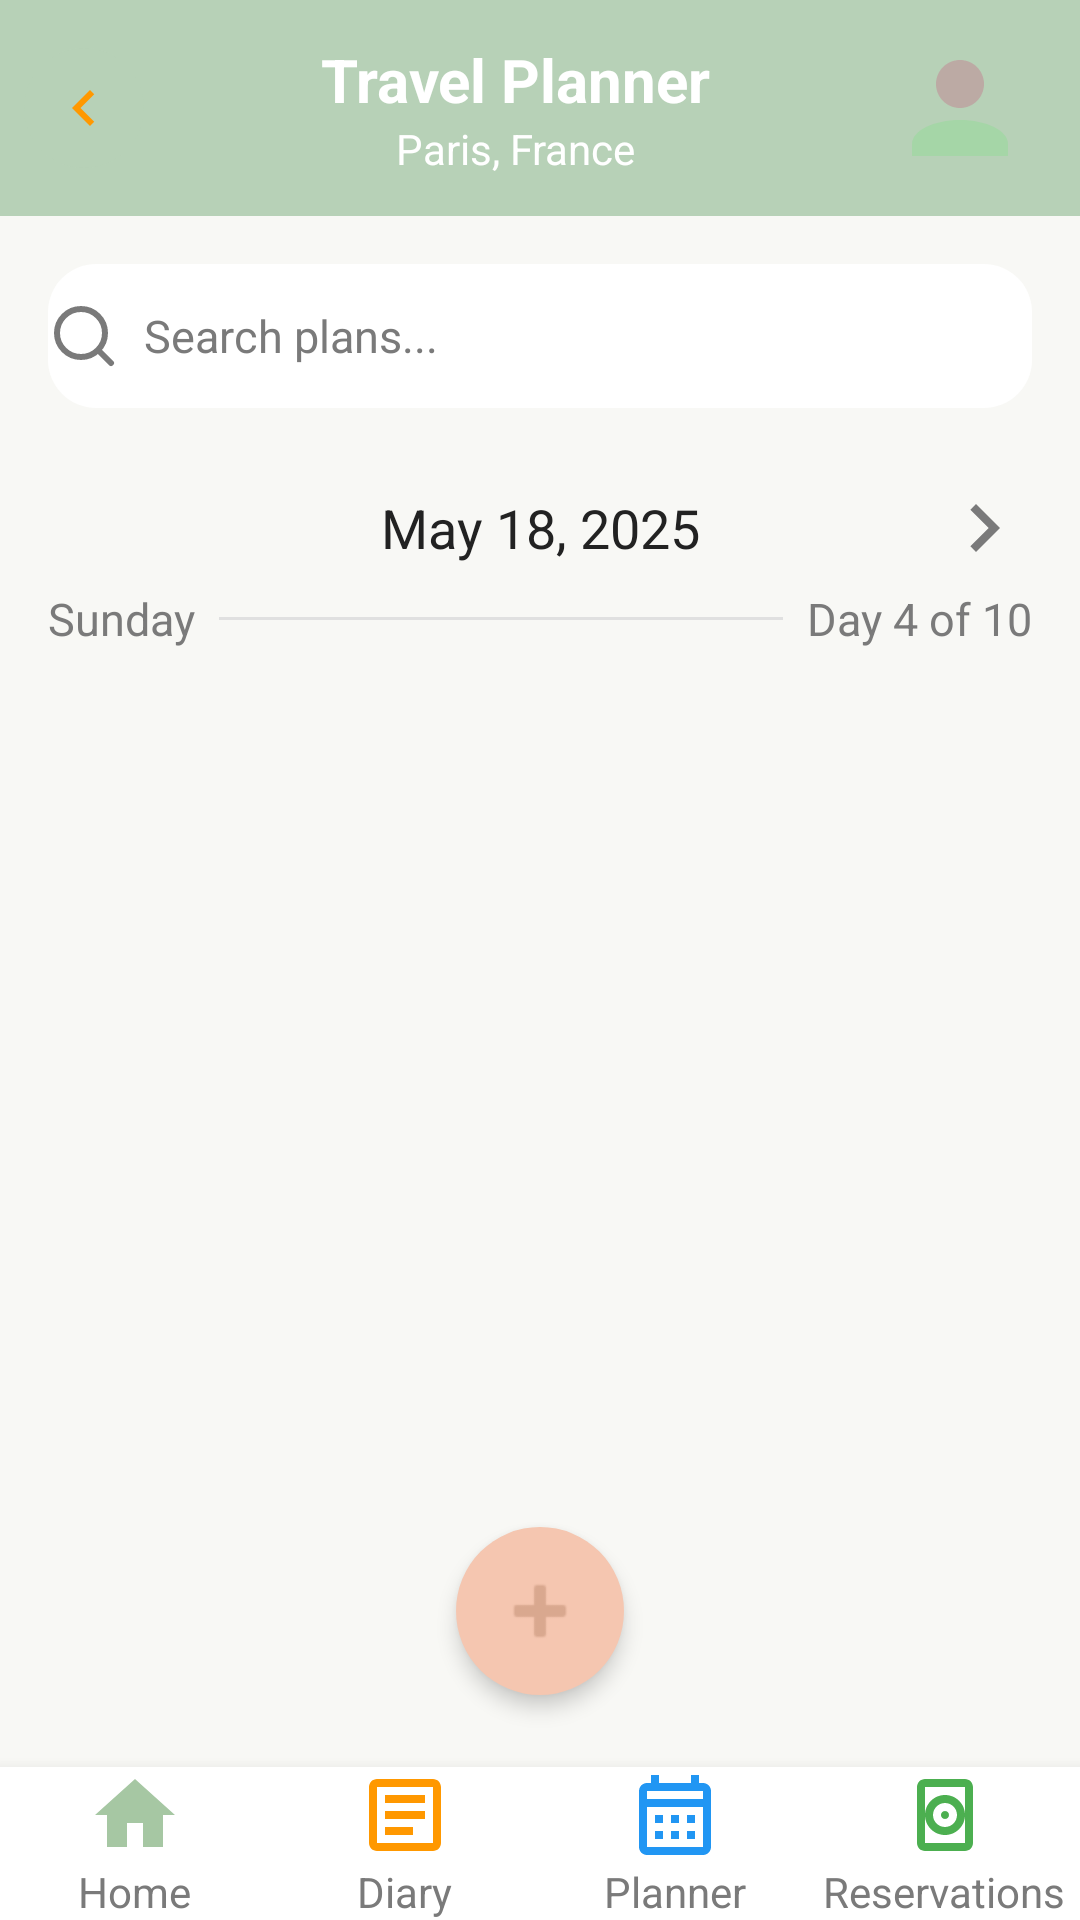

Icons on this 1080*1920 Android screen, each with its box as (x1, y1, x2, y2):
Add: (456, 1527, 624, 1695)
back planner: (72, 90, 94, 126)
Next: (970, 504, 1000, 552)
